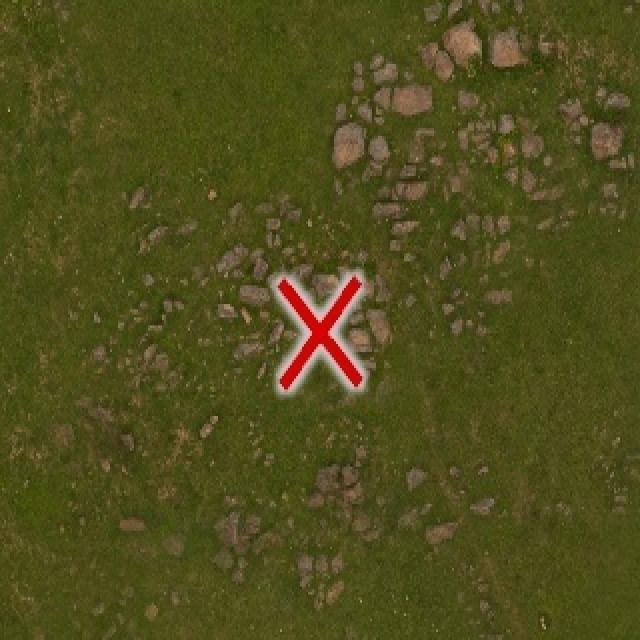x_marker: (277, 276, 361, 388)
